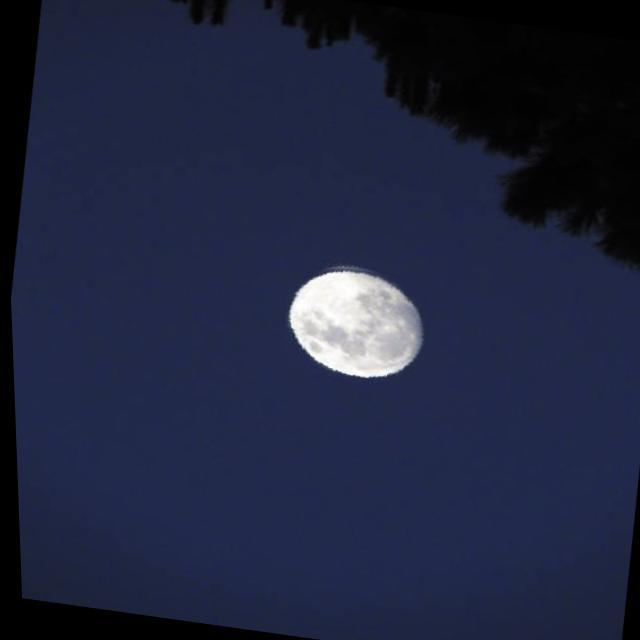moon: (273, 253, 442, 391)
